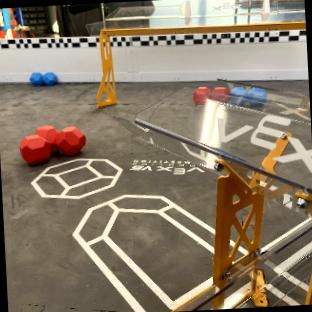V5_BLUE: (229, 86, 266, 103), (29, 72, 56, 86)
V5_RED: (19, 124, 85, 165), (193, 86, 227, 103)
